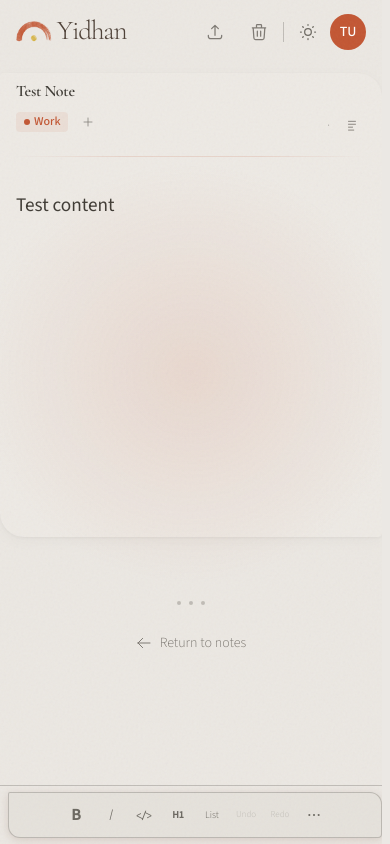
Test: Editor › delete confirmation › hides confirmation when Keep writing clicked
Click the button named "Delete note" at (259, 32), box [241,14,277,50]
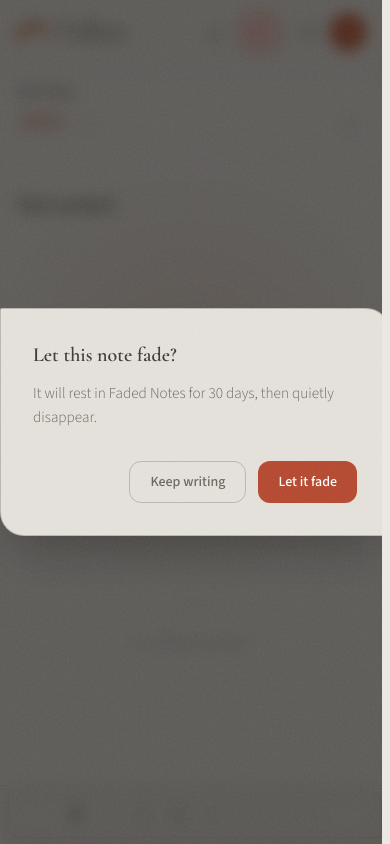
Click the button "Keep writing" at (188, 482), box [130,461,246,503]
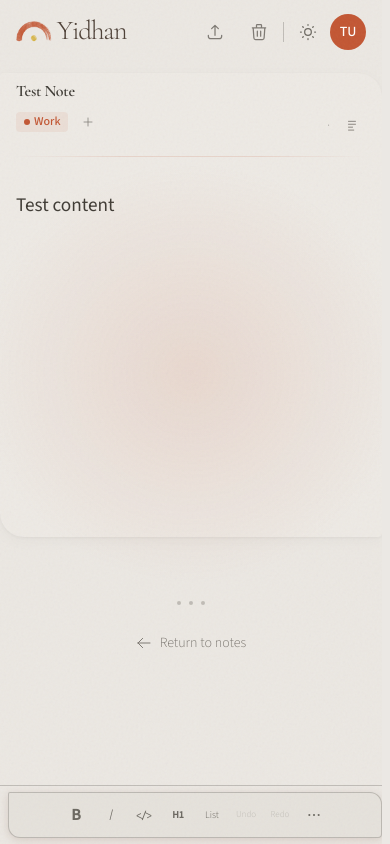
Result: the heading "Let this note fade?" is gone
